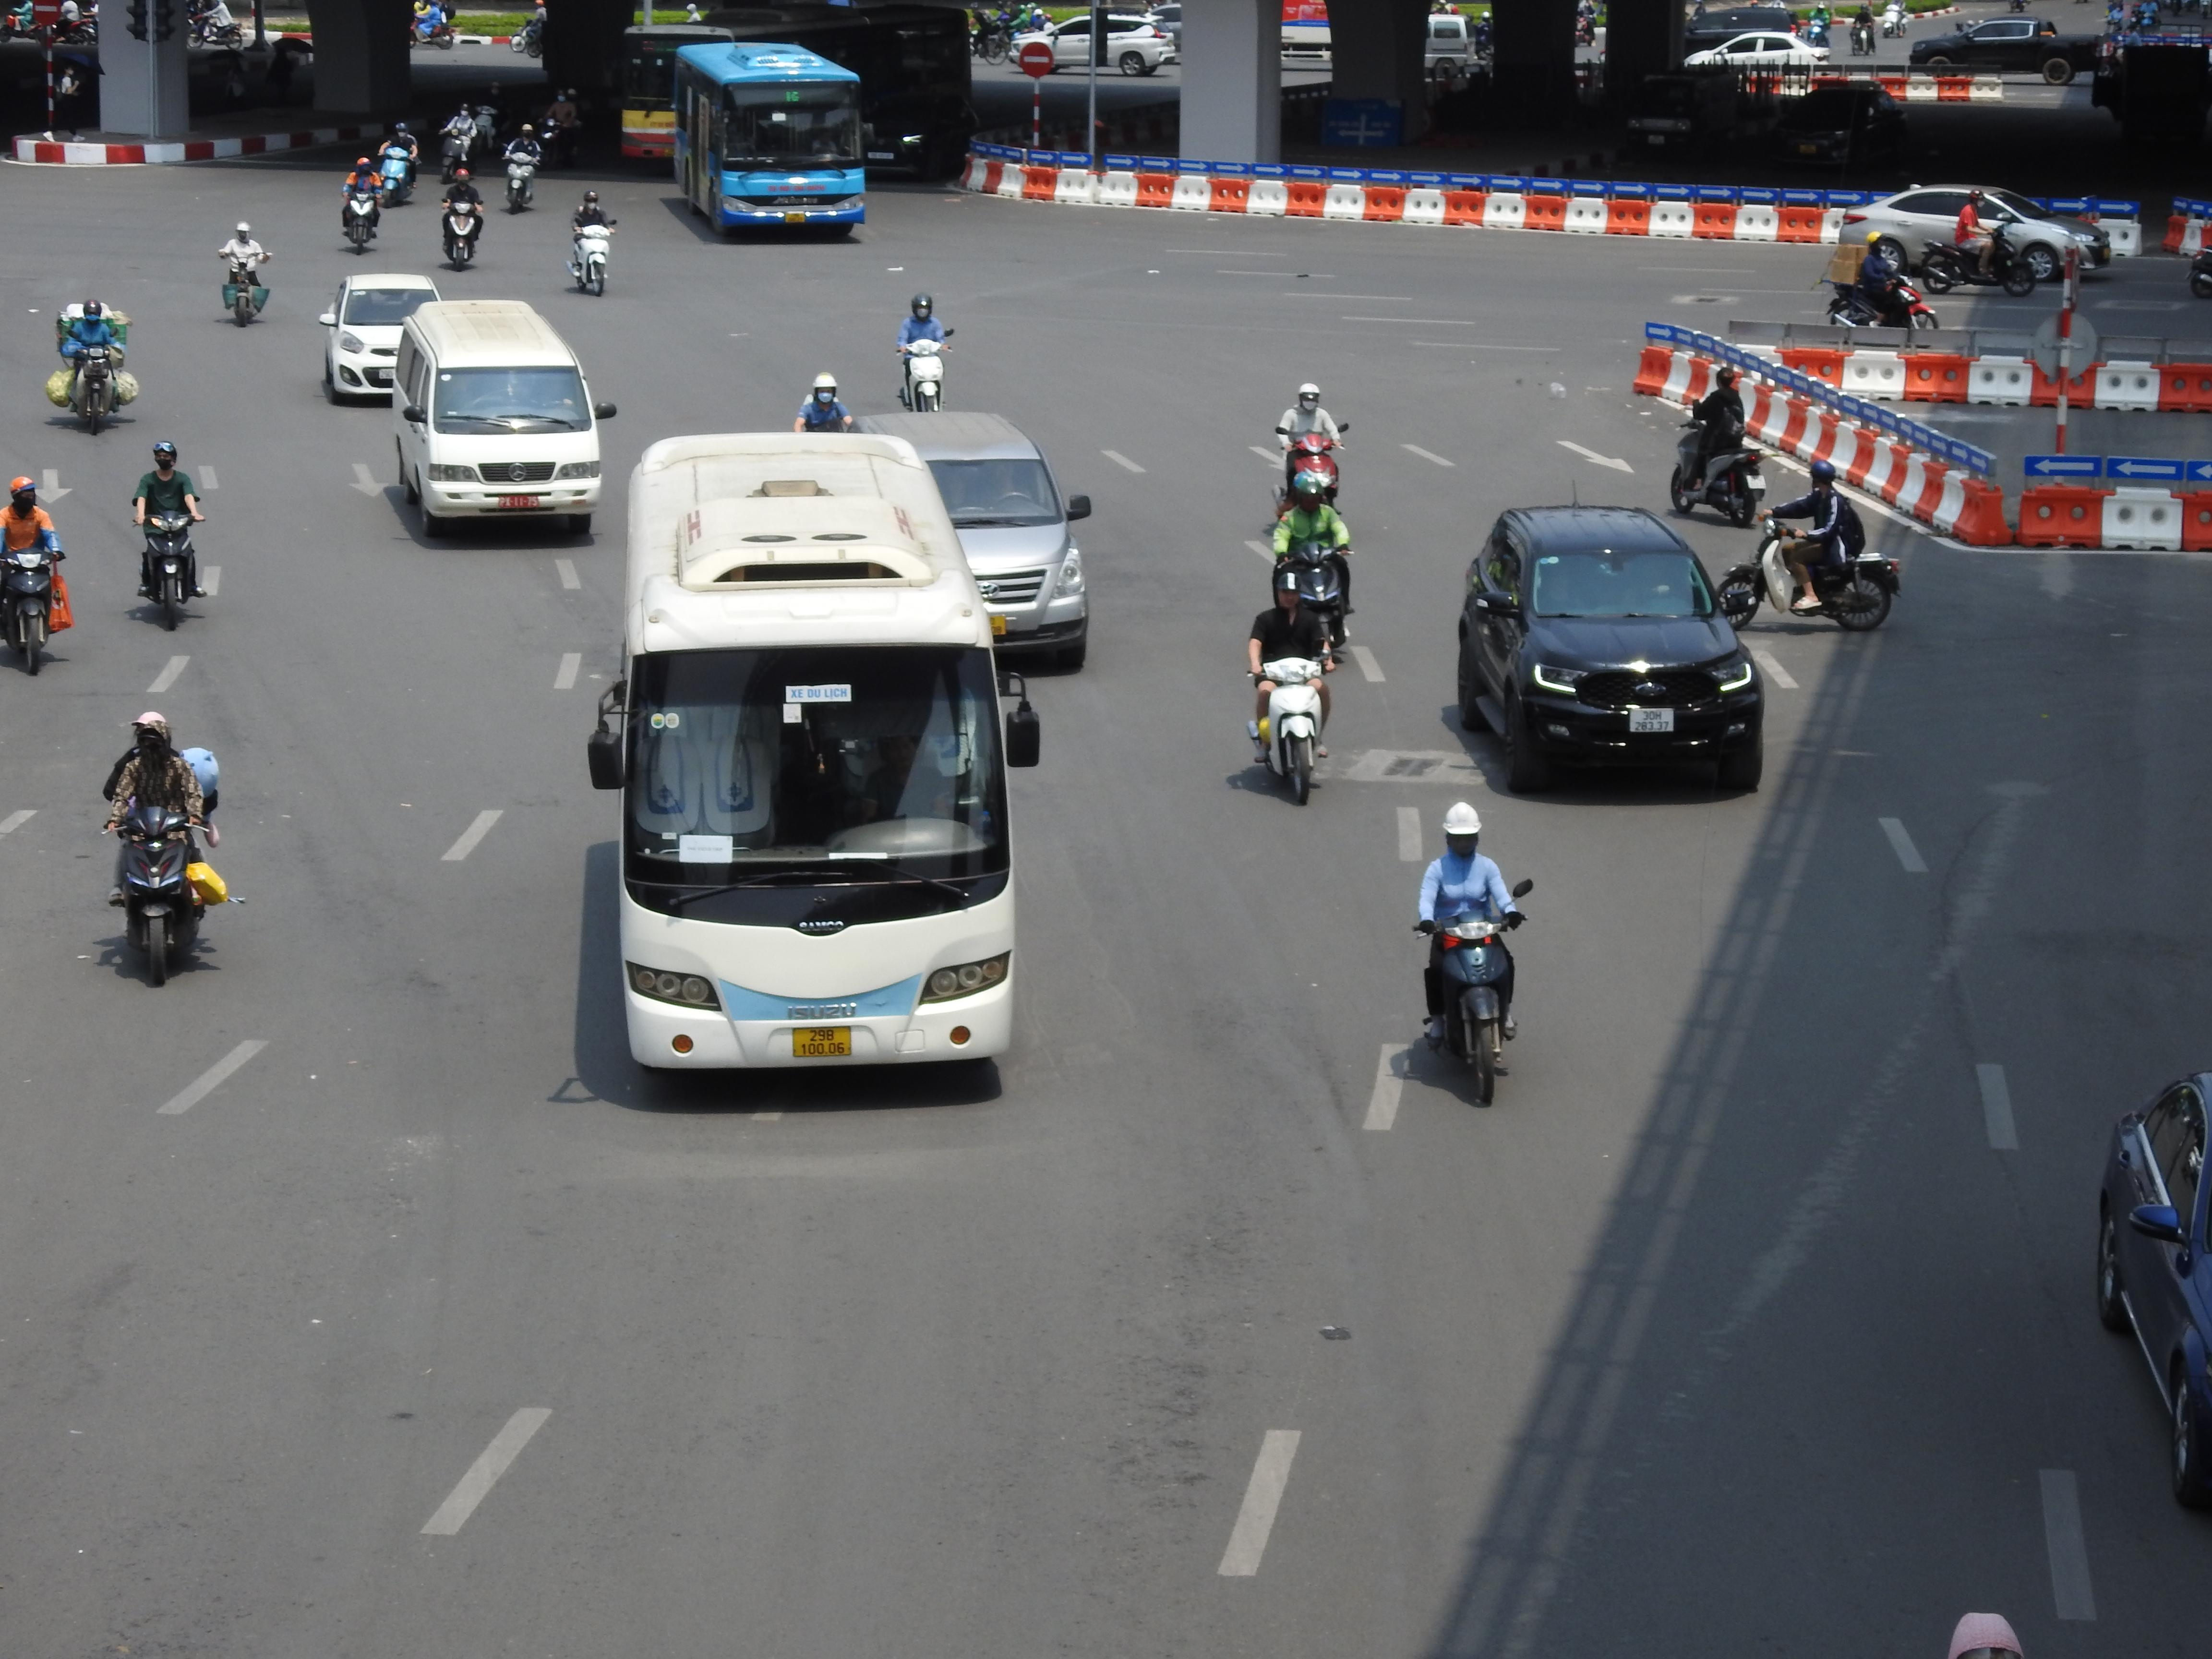BSD: (498, 495, 540, 509)
BSV: (792, 1026, 852, 1058), (1629, 708, 1674, 734), (1745, 472, 1766, 490)
bus: (585, 429, 1042, 1084), (671, 38, 869, 240)
car: (1451, 504, 1766, 798), (873, 411, 1096, 673), (390, 298, 618, 540), (2092, 1063, 2212, 1514), (1831, 183, 2099, 284), (317, 272, 442, 404), (1905, 14, 2113, 87), (1012, 9, 1177, 77)
motorbike: (1416, 803, 1529, 1108), (103, 709, 225, 988), (1719, 457, 1900, 633), (1247, 568, 1334, 807), (1264, 469, 1353, 662), (1669, 364, 1770, 526), (132, 439, 207, 633), (0, 476, 68, 676), (49, 298, 136, 436), (1921, 195, 2038, 296), (1827, 234, 1939, 333), (1271, 380, 1346, 516), (895, 293, 953, 413), (218, 220, 272, 328), (566, 188, 615, 296), (439, 160, 486, 270), (340, 152, 385, 254), (376, 118, 420, 207), (502, 120, 542, 213), (439, 98, 479, 178), (2186, 197, 2212, 298), (411, 0, 456, 47), (1848, 0, 1879, 54), (1879, 0, 1909, 38)
